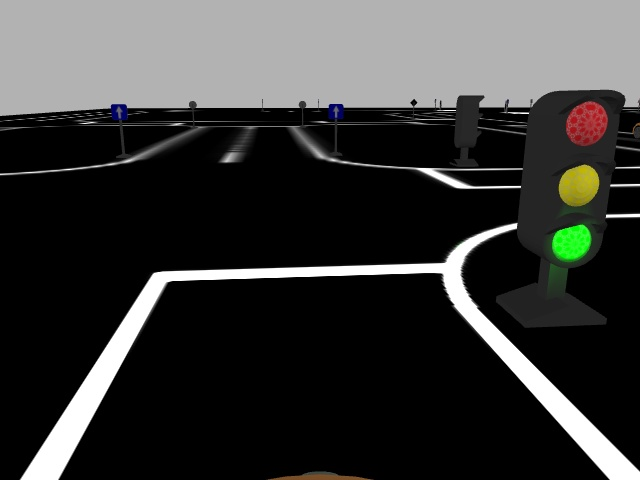green_light: (515, 88, 627, 270)
oneway: (327, 103, 344, 122), (110, 104, 128, 121)
